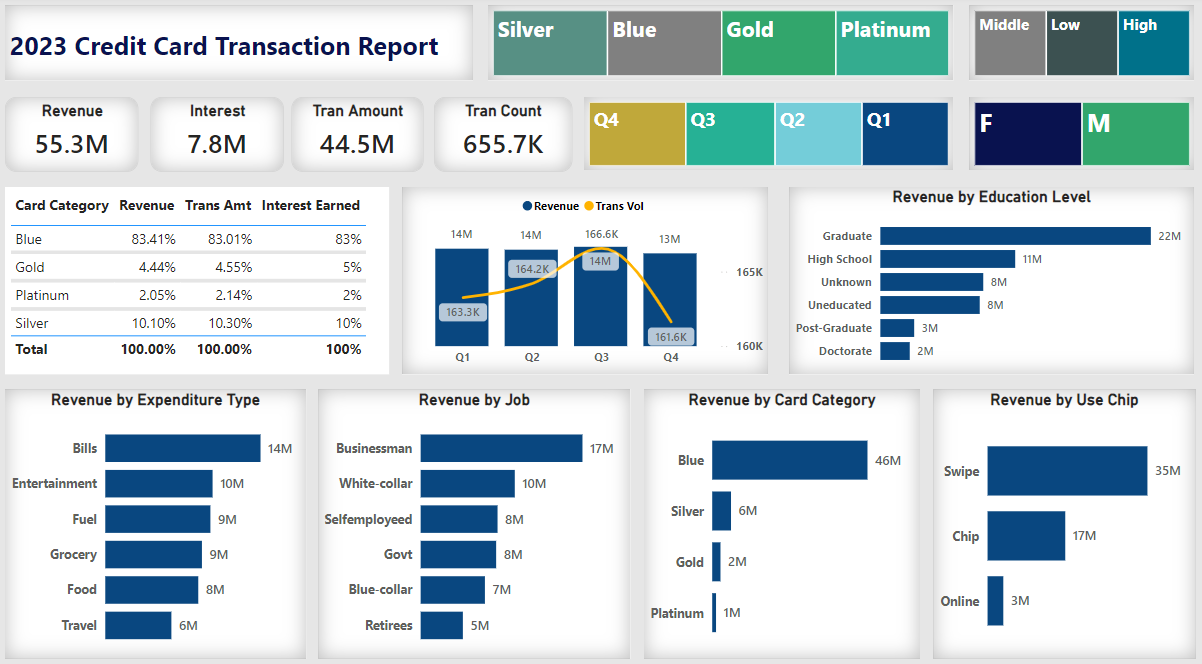

Layout of this report page (visuals, bound fields, positions):
{"tool":"powerbi","page":{"name":"Transaction report","canvas":[1280,720],"ordinal":1},"visuals":[{"type":"textbox","box":[9.5,11.1,496.3,79.5],"z":0},{"type":"lineStackedColumnComboChart","title":"Revenue and Total Trans Count","fields":{"Category":["credit_card.Qtr"],"Y2":["Sum(credit_card.Total_Trans_Vol)"],"Y":["Calcs customers.Revenue"]},"box":[430.9,204.1,387.4,198.4],"z":1000},{"type":"barChart","title":"Revenue by Expenditure Type","fields":{"Category":["credit_card.Exp Type"],"Y":["Calcs customers.Revenue"]},"box":[9.4,417.6,319.4,285.4],"z":2000},{"type":"barChart","title":"Revenue by Education Level","fields":{"Category":["customer.Education_Level"],"Y":["Calcs customers.Revenue"]},"box":[841,204.1,429,198.4],"z":3000},{"type":"barChart","title":"Revenue by Job","fields":{"Category":["customer.Customer_Job"],"Y":["Calcs customers.Revenue"]},"box":[342,417.6,330.7,285.4],"z":4000},{"type":"barChart","title":"Revenue by Card Category","fields":{"Category":["credit_card.Card_Category"],"Y":["Calcs customers.Revenue"]},"box":[687.9,417.6,292.9,285.4],"z":5000},{"type":"barChart","title":"Revenue by Use Chip","fields":{"Category":["credit_card.Use Chip"],"Y":["Calcs customers.Revenue"]},"box":[994,417.6,277.8,285.4],"z":6000},{"type":"tableEx","fields":{"Values":["credit_card.Card_Category","Calcs customers.Revenue","Sum(credit_card.Total_Trans_Amt)","Sum(credit_card.Interest_Earned)"]},"box":[9.5,203.6,407.2,198.8],"z":7000},{"type":"card","title":"Revenue","fields":{"Values":["Calcs customers.Revenue"]},"box":[9.5,108.2,141.6,79.5],"z":8000},{"type":"card","title":"Tran Amount","fields":{"Values":["Sum(credit_card.Total_Trans_Amt)"]},"box":[313.4,108.2,140,79.5],"z":9000},{"type":"card","title":"Interest","fields":{"Values":["Sum(credit_card.Interest_Earned)"]},"box":[163.8,108.2,141.6,79.5],"z":10000},{"type":"card","title":"Tran Count","fields":{"Values":["Sum(credit_card.Total_Trans_Vol)"]},"box":[464.5,108.2,146.3,79.5],"z":11000},{"type":"treemap","fields":{"Group":["credit_card.Qtr"],"Values":["Avg(credit_card.Client_Num)"]},"box":[623.6,107.7,391.2,77.5],"z":13000},{"type":"treemap","fields":{"Group":["customer.Gender"],"Values":["Avg(credit_card.Client_Num)"]},"box":[1031.8,107.7,238.1,77.5],"z":14000},{"type":"treemap","fields":{"Group":["credit_card.Card_Category"],"Values":["Avg(credit_card.Client_Num)"]},"box":[521.6,11.3,493.2,79.4],"z":15000},{"type":"treemap","fields":{"Values":["Avg(credit_card.Client_Num)"],"Group":["customer.Income (groups)"]},"box":[1031.8,11.3,238.1,79.4],"z":16000}]}

Visuals, with their boxes in screenshot pixels (x1, y1, x2, y2), scaled from the page's 1280x720 canvas onto the 1202x664 screenshot:
textbox: [left=9, top=10, right=475, bottom=84]
"Revenue and Total Trans Count" lineStackedColumnComboChart: [left=405, top=188, right=768, bottom=371]
"Revenue by Expenditure Type" barChart: [left=9, top=385, right=309, bottom=648]
"Revenue by Education Level" barChart: [left=790, top=188, right=1193, bottom=371]
"Revenue by Job" barChart: [left=321, top=385, right=632, bottom=648]
"Revenue by Card Category" barChart: [left=646, top=385, right=921, bottom=648]
"Revenue by Use Chip" barChart: [left=933, top=385, right=1194, bottom=648]
tableEx - credit_card.Card_Category x Calcs customers.Revenue: [left=9, top=188, right=391, bottom=371]
"Revenue" card: [left=9, top=100, right=142, bottom=173]
"Tran Amount" card: [left=294, top=100, right=426, bottom=173]
"Interest" card: [left=154, top=100, right=287, bottom=173]
"Tran Count" card: [left=436, top=100, right=574, bottom=173]
treemap - credit_card.Qtr x Avg(credit_card.Client_Num): [left=586, top=99, right=953, bottom=171]
treemap - customer.Gender x Avg(credit_card.Client_Num): [left=969, top=99, right=1193, bottom=171]
treemap - credit_card.Card_Category x Avg(credit_card.Client_Num): [left=490, top=10, right=953, bottom=84]
treemap - Avg(credit_card.Client_Num) x customer.Income (groups): [left=969, top=10, right=1193, bottom=84]
